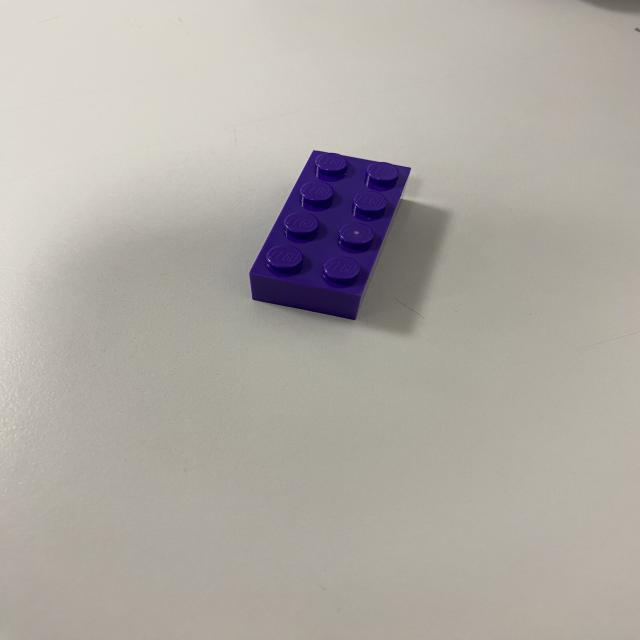C4x2x1: (252, 146, 412, 297), (250, 268, 354, 321)
